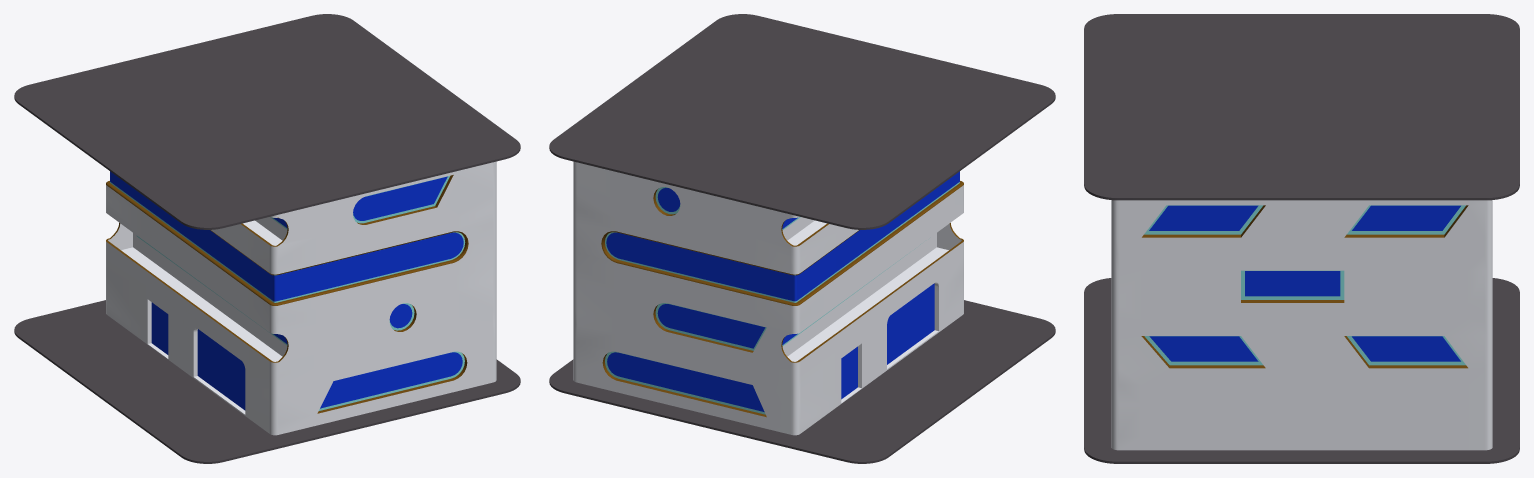
The picture shows the model from 3 angles, left to right: view 1: azimuth 30°, elevation 25°; view 2: azimuth 150°, elevation 25°; view 3: azimuth 270°, elevation 25°; orthographic projection. The views are drawn at different scales.
Parts seen in each view (by area): view 1: SM_B_i4_Base; view 2: SM_B_i4_Base; view 3: SM_B_i4_Base.
Part boxes in pixels (x1,y1,x2,y2): SM_B_i4_Base: [14, 14, 520, 463]; SM_B_i4_Base: [549, 14, 1055, 463]; SM_B_i4_Base: [1084, 14, 1519, 463].
Bounding box in the file's own units: 2100 × 1414 × 2100.
